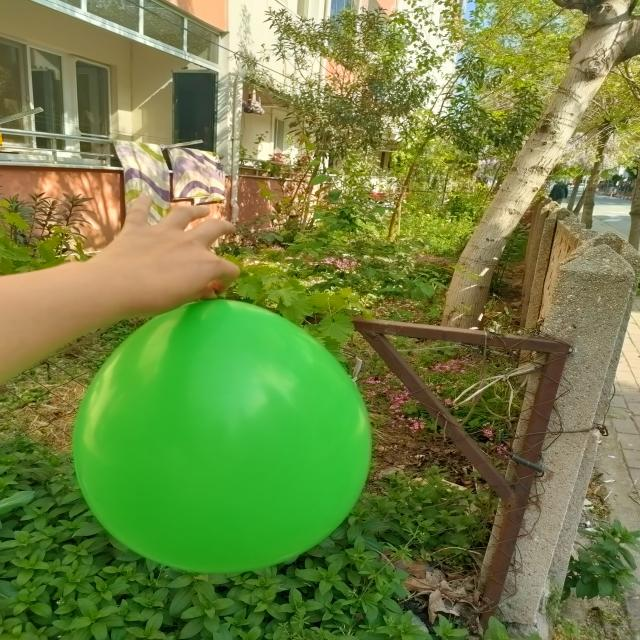green: (77, 301, 373, 579)
